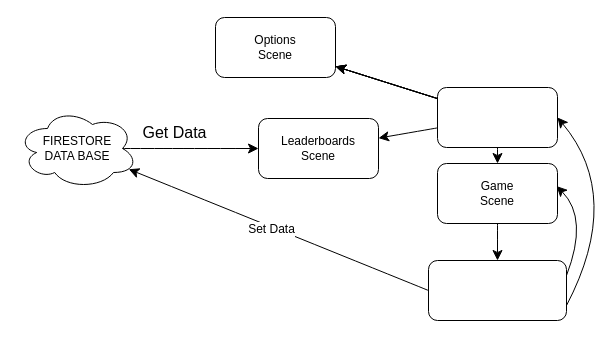
Some shapes in this 612 by 338 pixel diagram are drawn without their labels. Each missing label, with the centre of its shape:
"Game Over Scene" goes at pixel 497 290.
"Main Menu Scene" goes at pixel 497 117.
